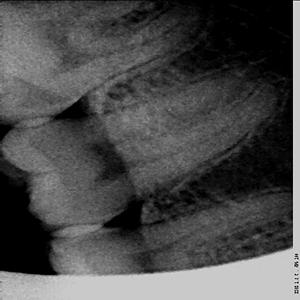tooth: (0, 70, 282, 236)
